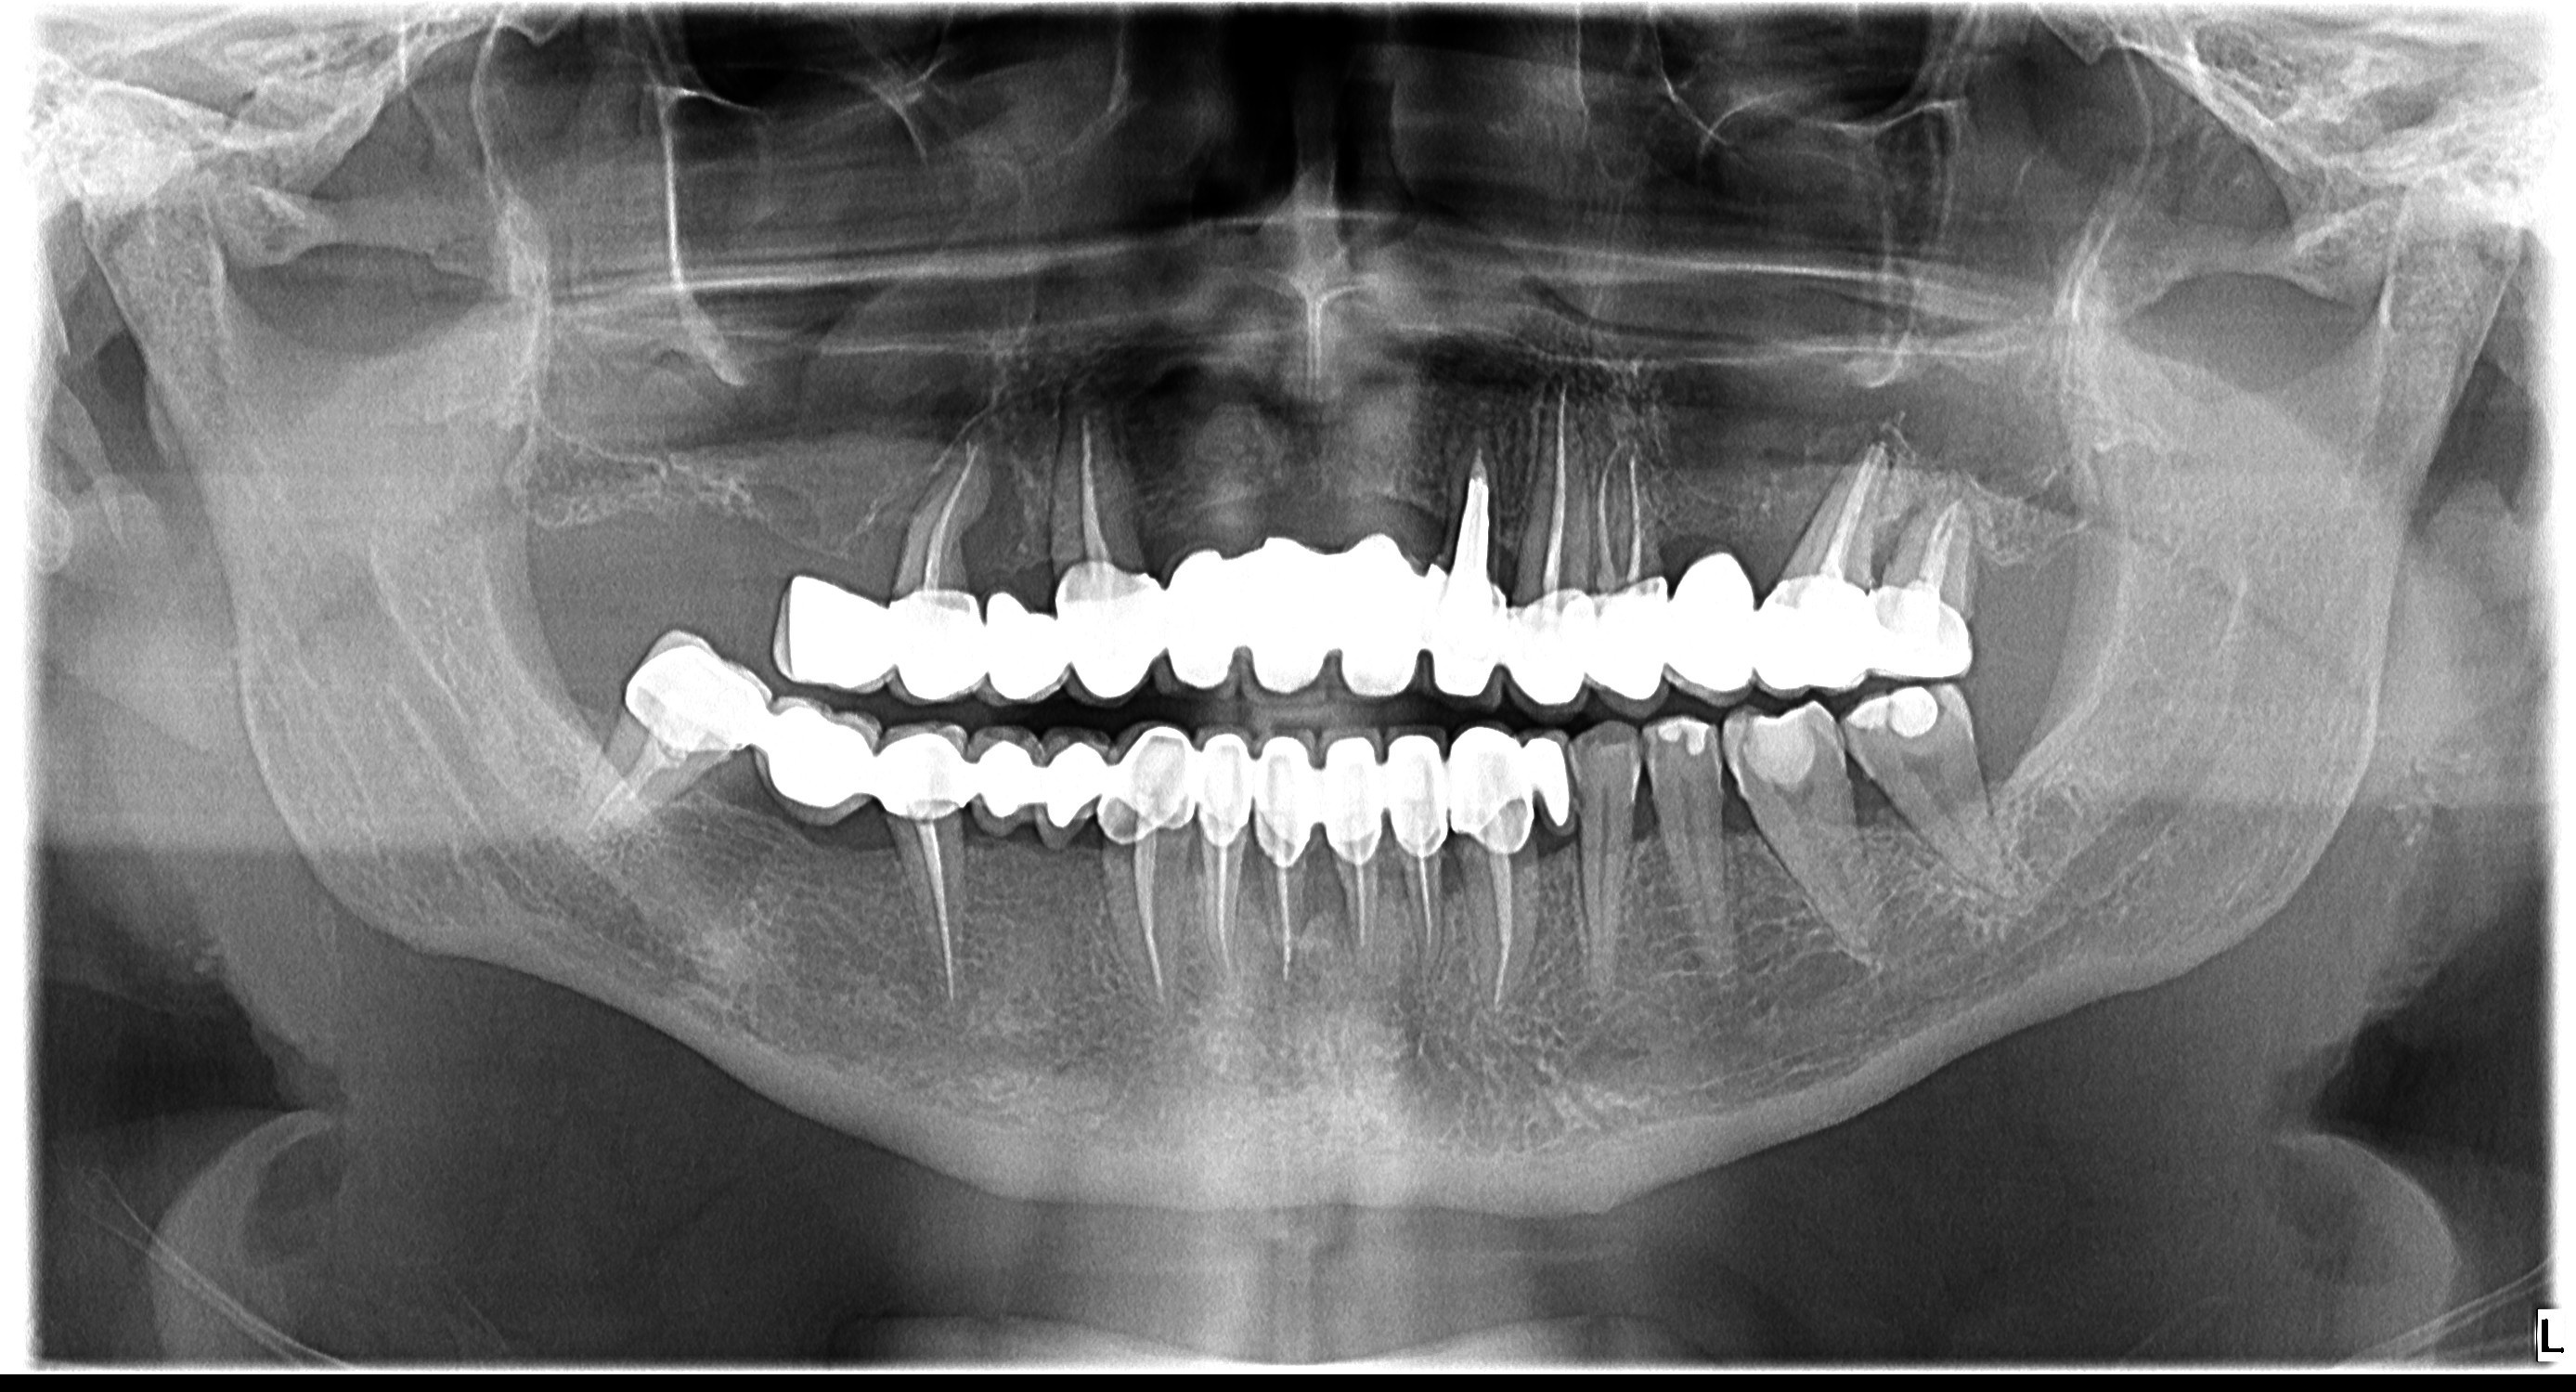API: (1853, 420, 1908, 466)
BON: (947, 427, 1046, 590), (836, 441, 928, 586), (1853, 485, 1947, 574), (1219, 840, 1279, 934), (1303, 861, 1345, 946), (1867, 785, 1920, 847), (1368, 866, 1418, 926), (1430, 864, 1482, 919)
CAR: (1631, 717, 1675, 778), (1437, 821, 1480, 867)
END: (1519, 369, 1598, 590), (897, 823, 985, 1018), (1101, 838, 1192, 1011), (555, 732, 702, 835), (915, 408, 988, 593), (1058, 405, 1120, 569), (1807, 458, 1886, 579), (1588, 430, 1648, 590), (1194, 840, 1249, 987), (1446, 435, 1502, 571), (1485, 849, 1529, 1018), (1262, 855, 1309, 986), (1918, 482, 1965, 598), (1406, 859, 1452, 962), (1341, 857, 1382, 969)
OBT: (1730, 708, 1824, 799), (1845, 679, 1947, 747), (1649, 717, 1711, 765)
PRR: (603, 597, 1593, 893), (760, 516, 1997, 713)
